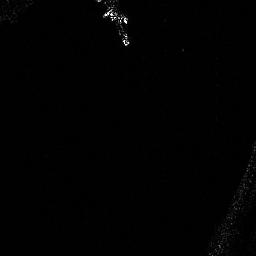ship: (109, 11, 132, 45)
